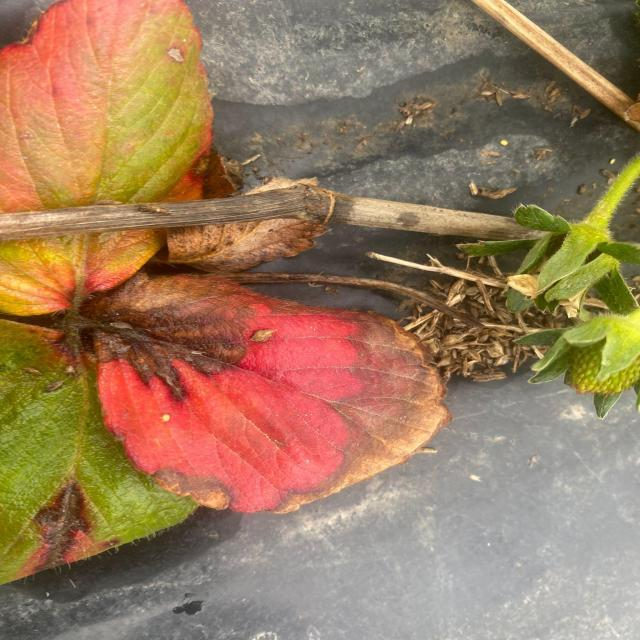flower: (508, 300, 640, 419)
